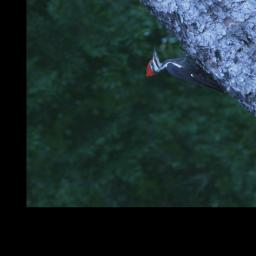Woodpecker: (132, 31, 233, 122)
